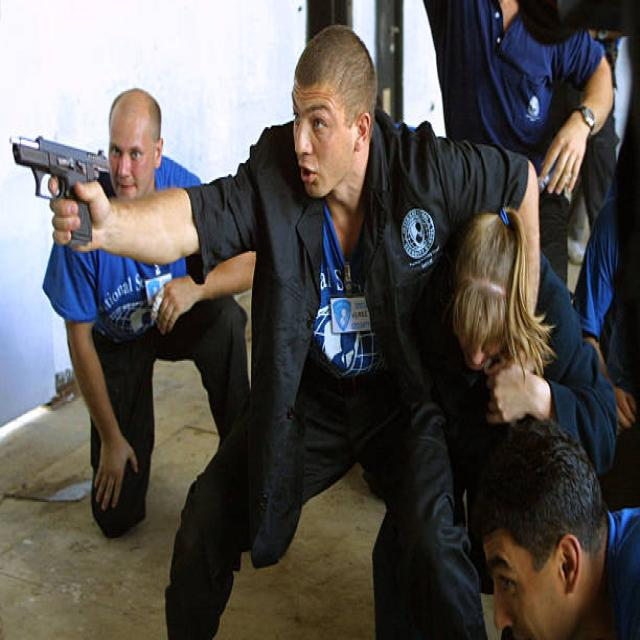civilian: (43, 242, 254, 535), (450, 210, 620, 482), (476, 420, 639, 638), (100, 89, 197, 196)
terrorist: (13, 25, 540, 638)
